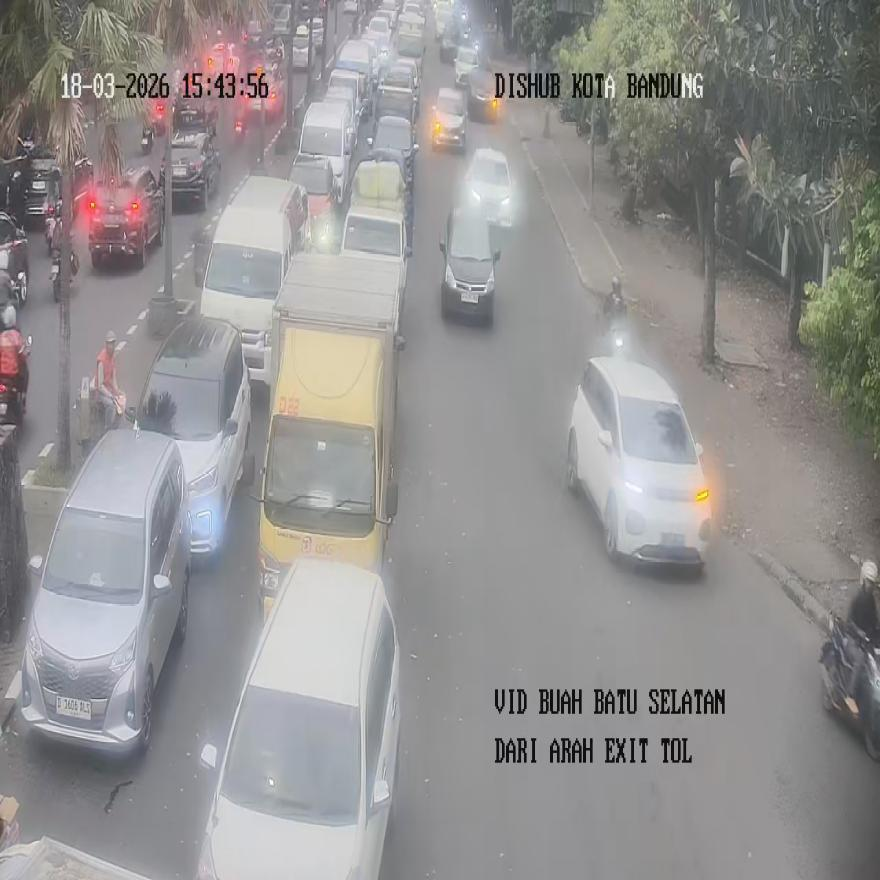Mobil: (195, 559, 400, 878), (18, 428, 190, 754), (565, 356, 712, 567), (126, 317, 254, 556), (198, 174, 309, 389), (339, 158, 410, 328), (87, 164, 164, 266), (440, 202, 500, 322), (465, 146, 513, 228)
Motor: (819, 614, 879, 760), (0, 334, 32, 426), (46, 213, 77, 300), (140, 119, 154, 155)
Truk ringan: (252, 253, 404, 623)
